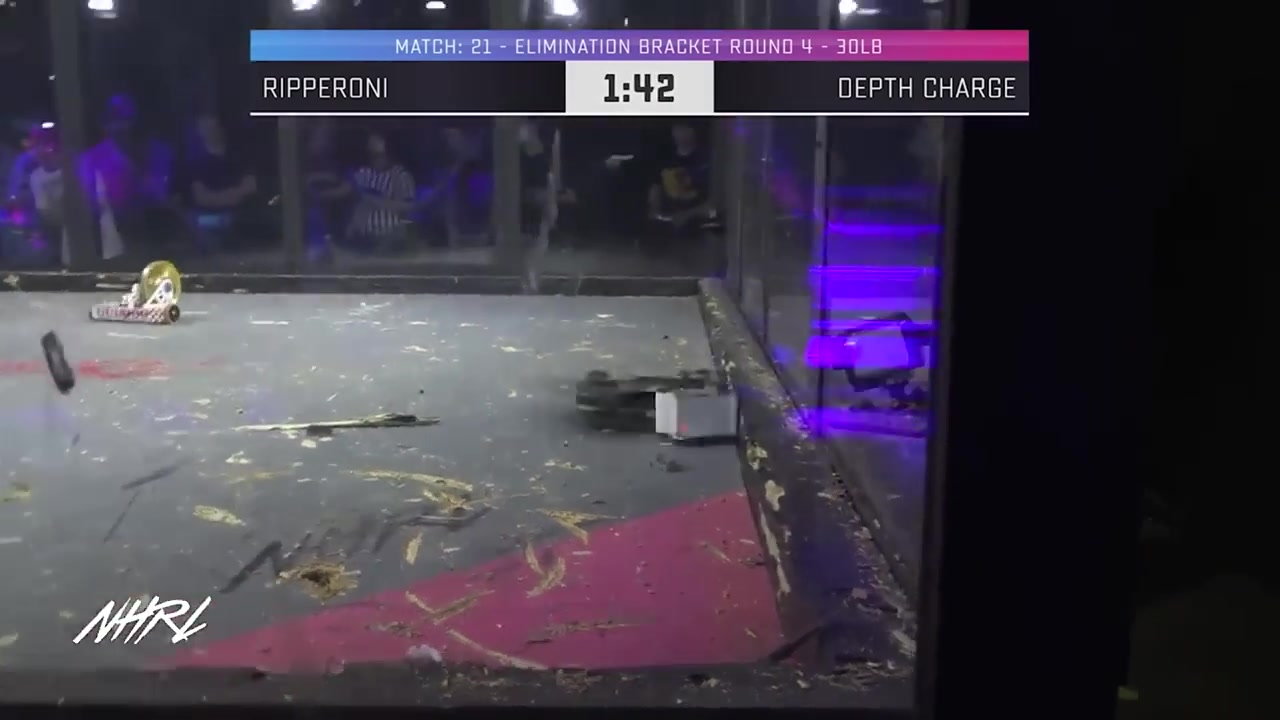combatbot: (574, 358, 746, 447), (89, 260, 183, 329)
debris: (29, 329, 89, 401)
